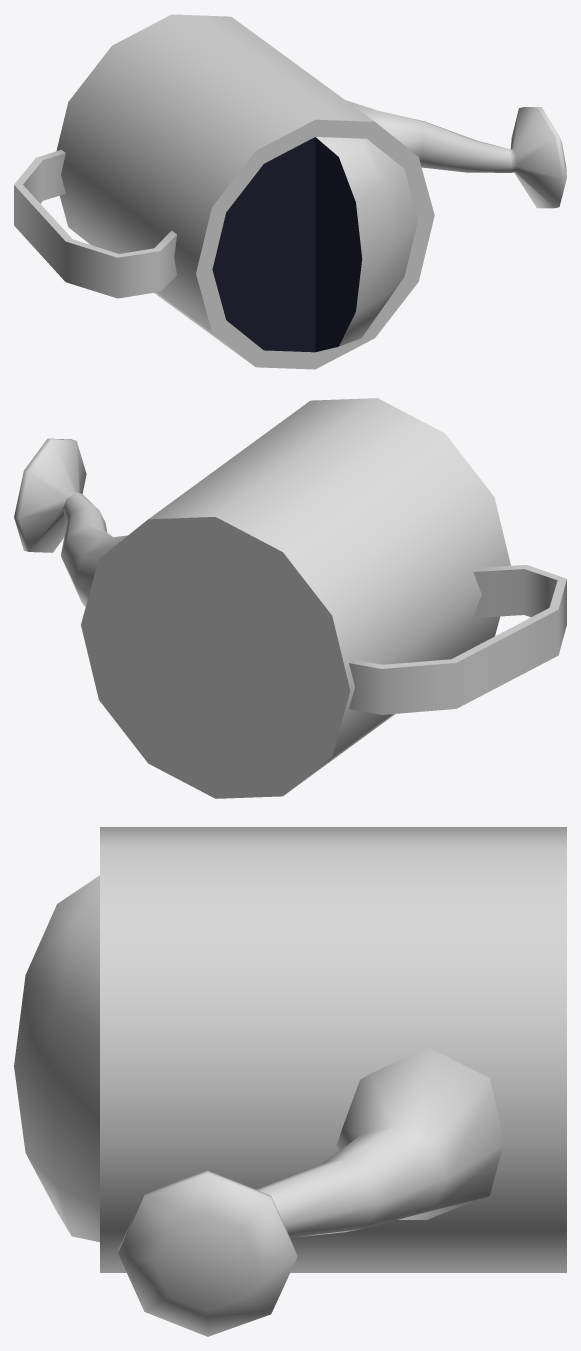
Rendered from Tool_WateringCan.fbx.
The picture shows the model from 3 angles, top to bottom: view 1: azimuth 30°, elevation 25°; view 2: azimuth 150°, elevation 25°; view 3: azimuth 270°, elevation 25°; orthographic projection. The views are drawn at different scales.
Parts seen in each view (by area): view 1: WateringCan; view 2: WateringCan; view 3: WateringCan.
Boxes of the visible parts, left/top/right/bottom form: WateringCan: left=14, top=14, right=566, bottom=369; WateringCan: left=14, top=398, right=566, bottom=798; WateringCan: left=14, top=827, right=566, bottom=1336.
Size of the model in its own units: 128 by 63.75 by 78.74.
